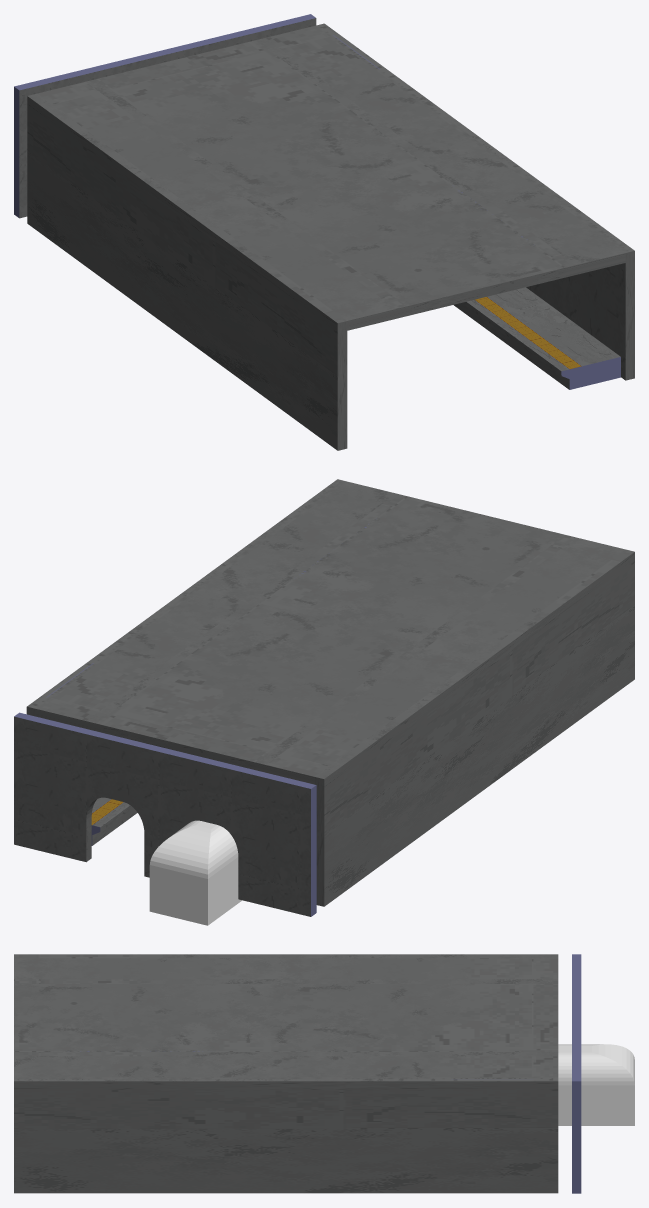
Rendered from Station.fbx.
3 views of the same model, one above another, from view 1: azimuth 30°, elevation 25°; view 2: azimuth 150°, elevation 25°; view 3: azimuth 270°, elevation 25° (orthographic). The views are drawn at different scales.
Parts seen in each view (by area): view 1: Walls, Platform, Entrance; view 2: Walls, Entrance, Cube.002, Platform; view 3: Walls, Cube.002, Entrance.
Boxes of the visible parts, box(x1,y1,x2,y2) form: Walls: box(27, 23, 634, 450); Platform: box(454, 287, 620, 389); Entrance: box(14, 14, 316, 218); Walls: box(26, 479, 634, 906); Entrance: box(14, 712, 316, 916); Cube.002: box(149, 820, 241, 925); Platform: box(91, 797, 137, 845); Walls: box(14, 954, 558, 1193); Cube.002: box(558, 1044, 634, 1125); Entrance: box(572, 954, 581, 1193).
Size of the model in its own units: 6351 by 2699 by 13110.
4 materials, 4 textured.
